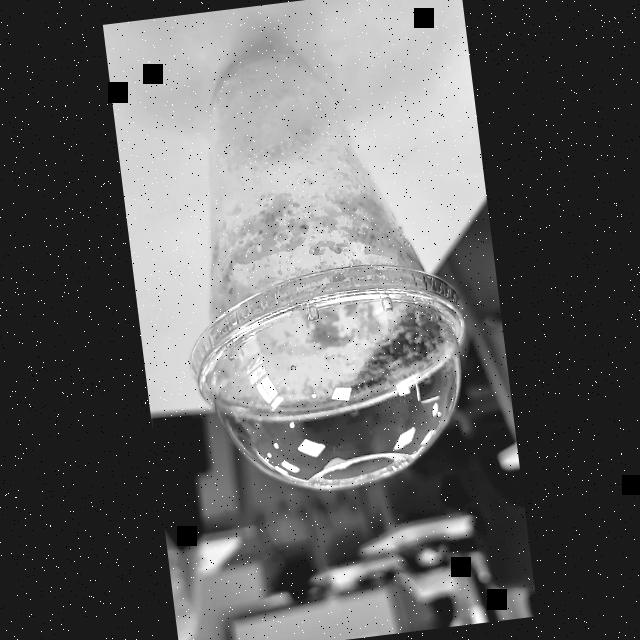plastic_cup: (155, 25, 488, 508)
plastic_cup_lid: (186, 251, 486, 508)
